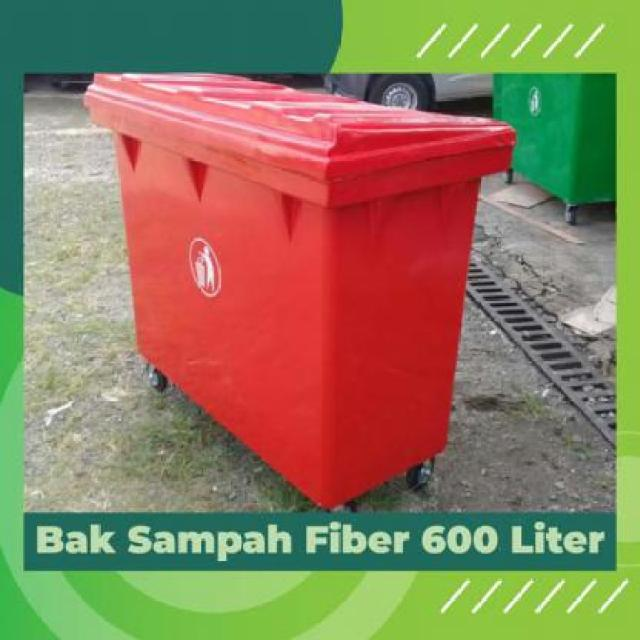garbage container: (79, 62, 518, 510), (489, 74, 617, 228)
